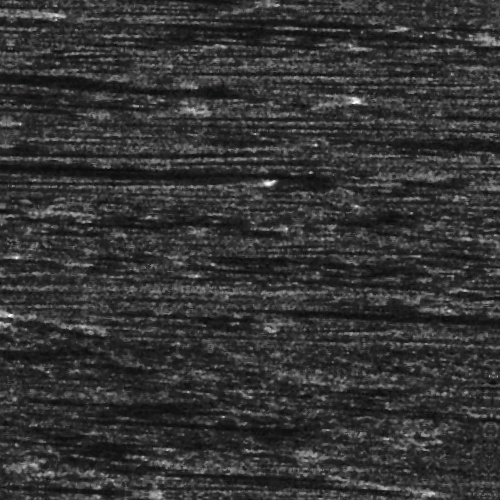object: (90, 491, 205, 500), (442, 18, 500, 35), (0, 43, 57, 58), (0, 215, 91, 224), (181, 403, 264, 412), (234, 175, 287, 182), (300, 422, 373, 427), (0, 466, 33, 477), (116, 110, 179, 115), (408, 474, 429, 485), (121, 82, 152, 89), (278, 87, 319, 92), (51, 116, 92, 121), (380, 8, 391, 25), (218, 0, 271, 3), (310, 471, 341, 474)
shadow: (125, 18, 484, 35), (226, 8, 385, 25), (198, 474, 418, 485), (0, 403, 222, 412), (0, 175, 260, 182), (0, 87, 299, 92), (0, 491, 147, 500), (109, 422, 337, 427), (293, 305, 500, 310), (0, 82, 136, 89), (0, 110, 147, 115), (98, 471, 325, 474), (22, 0, 244, 3), (396, 132, 500, 137), (0, 215, 45, 224), (0, 116, 71, 121)
